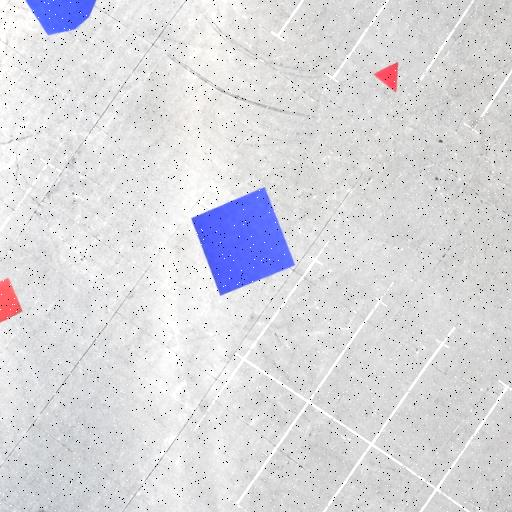BLUE_SQUARE: (190, 186, 296, 297)
RED_SQUARE: (0, 278, 23, 331)
